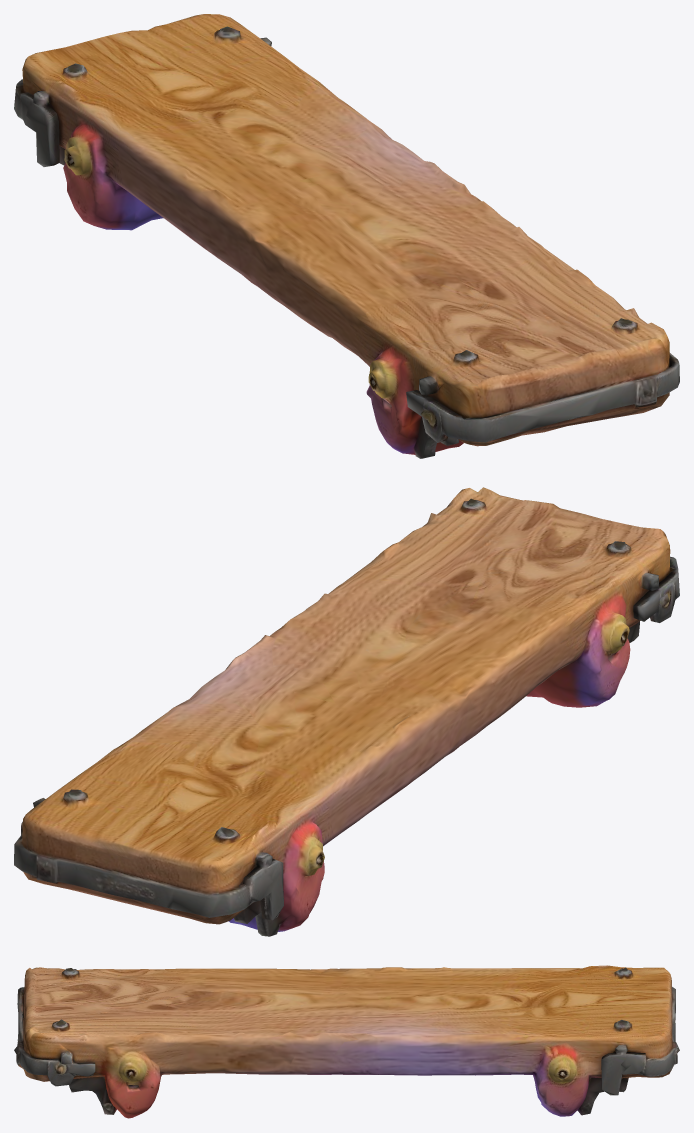
File: platform.glb
3 renders of one model, top to bottom at view 1: azimuth 30°, elevation 25°; view 2: azimuth 150°, elevation 25°; view 3: azimuth 270°, elevation 25°, orthographic. The views are drawn at different scales.
Parts seen in each view (by area): view 1: tripo_node_bee64df0-80c5-4bbf-9293-cf2dd5c9074e; view 2: tripo_node_bee64df0-80c5-4bbf-9293-cf2dd5c9074e; view 3: tripo_node_bee64df0-80c5-4bbf-9293-cf2dd5c9074e.
Part boxes in pixels (x1=…): tripo_node_bee64df0-80c5-4bbf-9293-cf2dd5c9074e: x1=14, y1=14, x2=679, y2=458; tripo_node_bee64df0-80c5-4bbf-9293-cf2dd5c9074e: x1=14, y1=487, x2=679, y2=936; tripo_node_bee64df0-80c5-4bbf-9293-cf2dd5c9074e: x1=14, y1=965, x2=679, y2=1118.
Bounding box in the file's own units: 0.3117 × 0.1551 × 1.
Materials: 1 (1 with a texture image).
